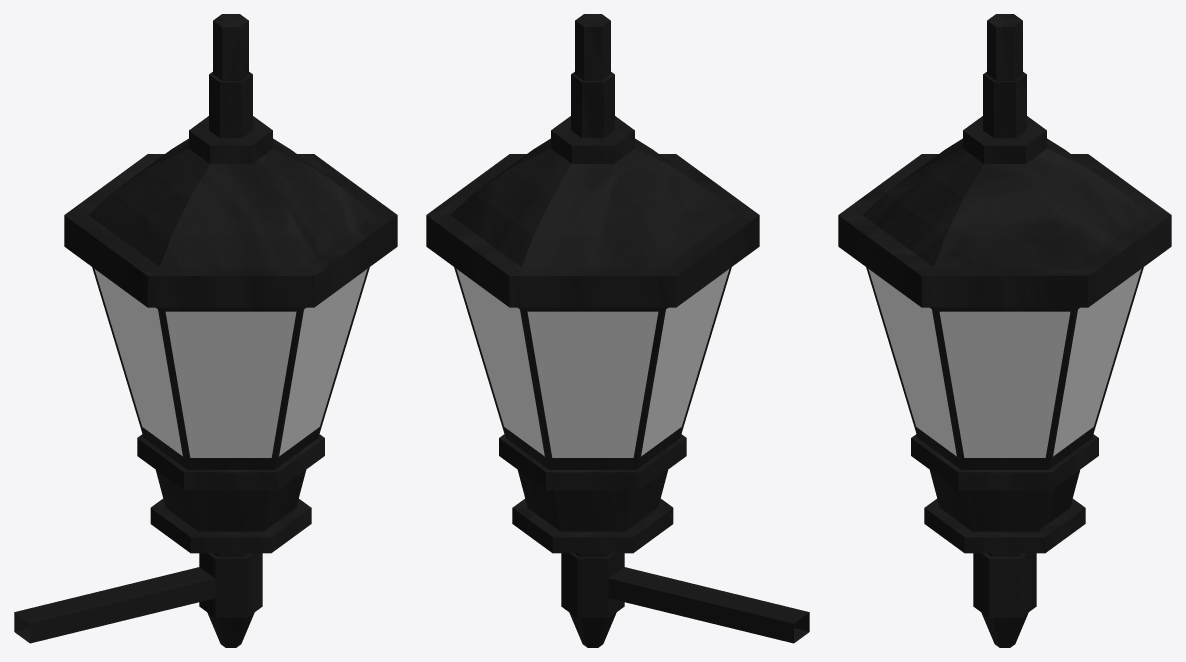
The model's file is house lantern.fbx.
The picture shows the model from 3 angles, left to right: view 1: azimuth 30°, elevation 25°; view 2: azimuth 150°, elevation 25°; view 3: azimuth 270°, elevation 25°; orthographic projection.
Parts seen in each view (by area): view 1: Cylinder.022; view 2: Cylinder.022; view 3: Cylinder.022.
Part boxes in pixels (x1=…): Cylinder.022: x1=14, y1=14, x2=397, y2=647; Cylinder.022: x1=426, y1=14, x2=809, y2=647; Cylinder.022: x1=838, y1=14, x2=1171, y2=647.
Bounding box in the file's own units: 37.31 × 66.59 × 32.27.
Materials: 2 (1 with a texture image).
